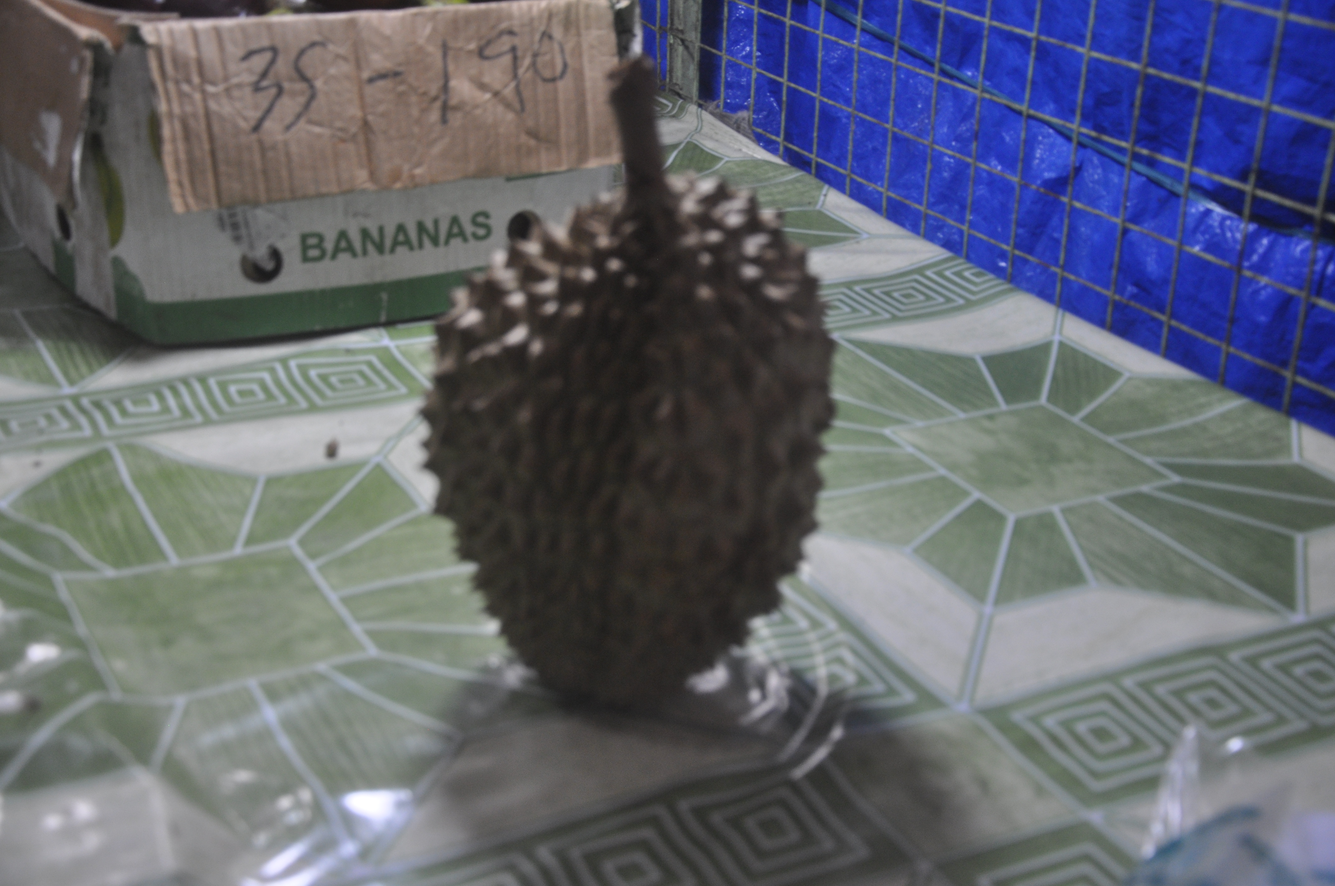mature: (423, 57, 833, 704)
